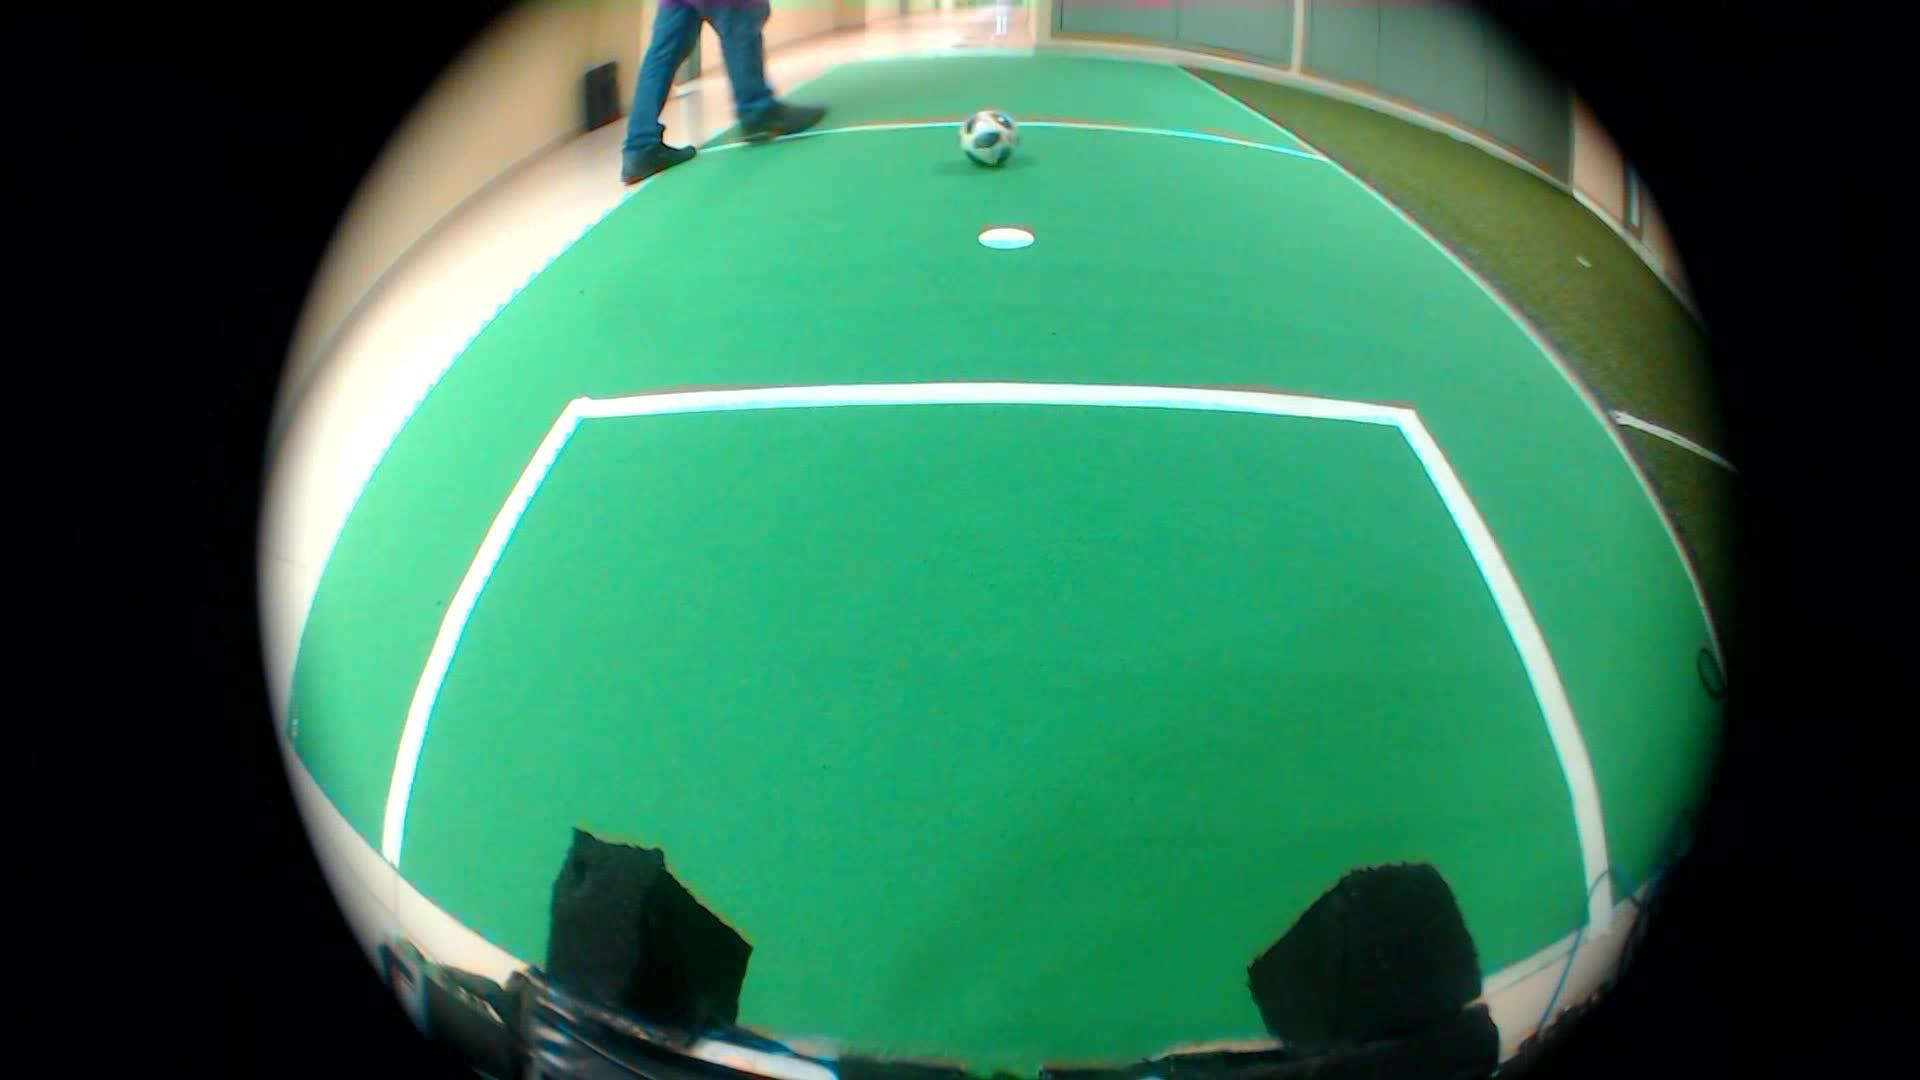ball: (953, 105, 1025, 177)
